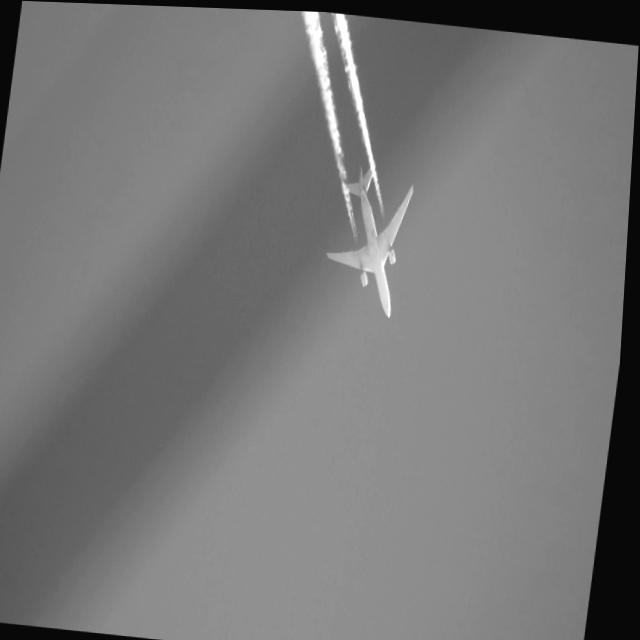aeroplane: (314, 152, 423, 324)
